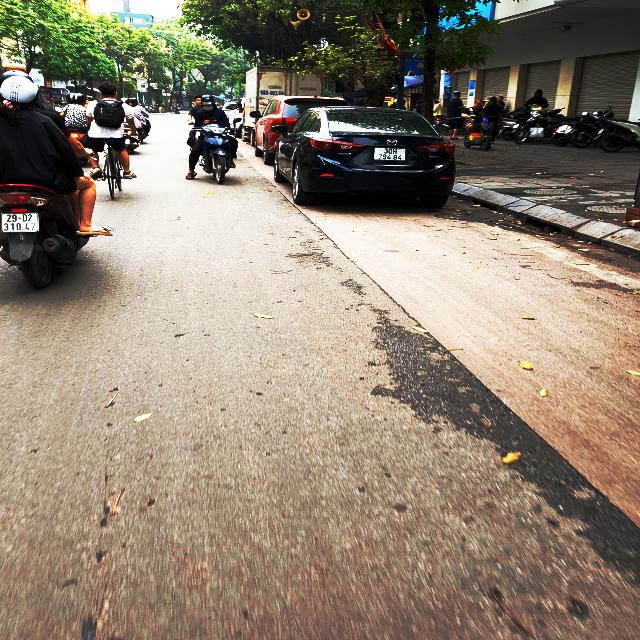license_plate: (1, 211, 41, 236), (372, 146, 410, 165)
